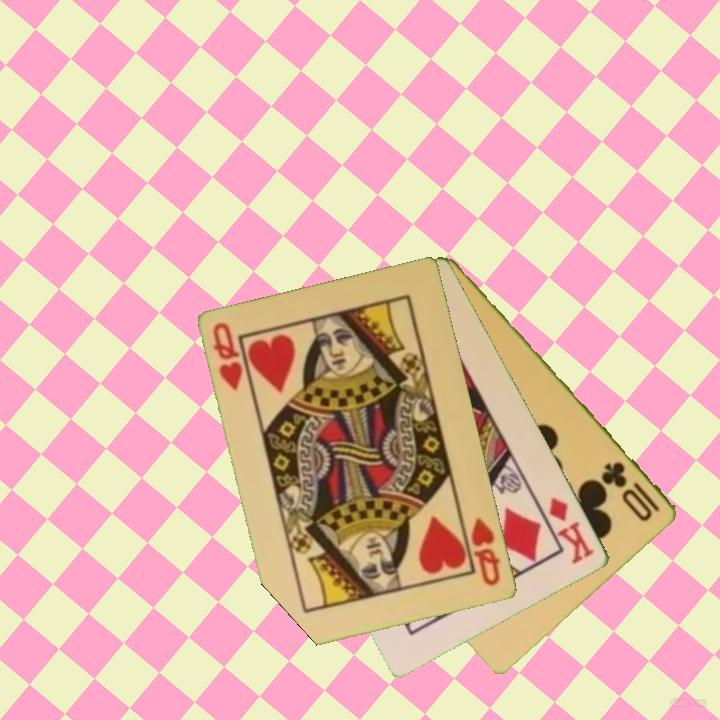10c: (598, 458, 664, 525)
Kd: (545, 494, 598, 567)
Qh: (468, 514, 504, 589), (210, 319, 246, 394)
